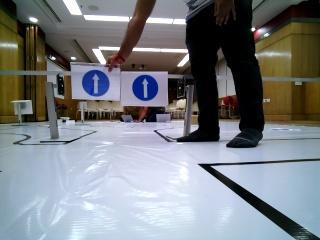straight: (70, 63, 122, 99), (126, 72, 166, 104)
